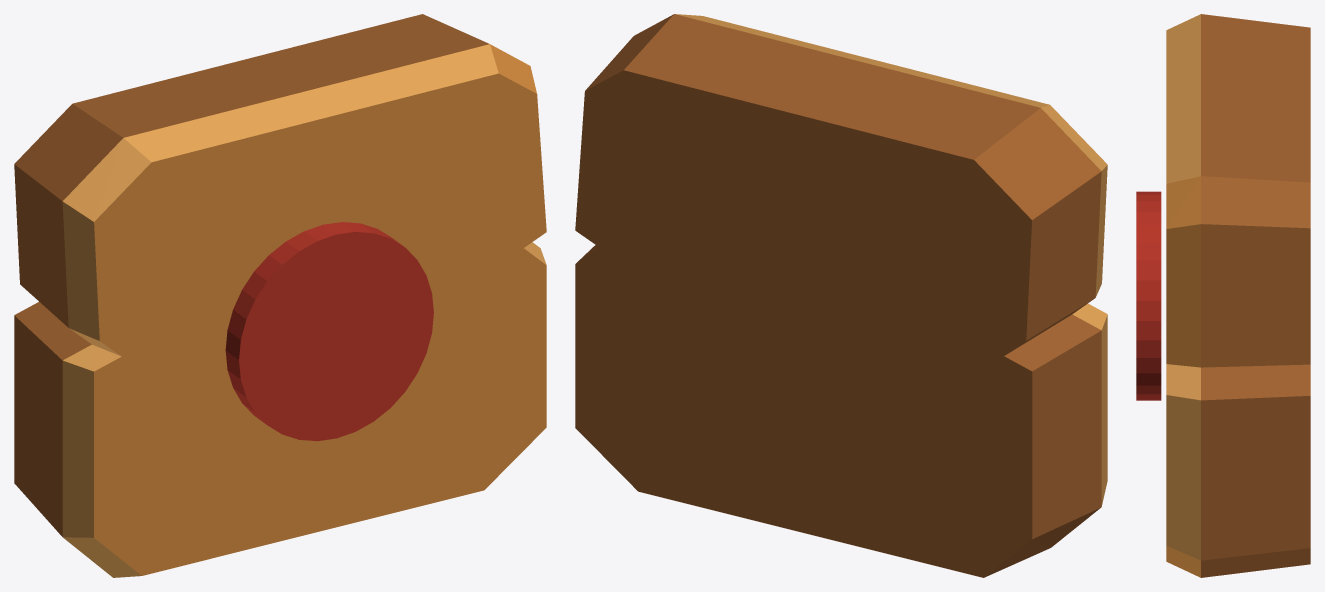
Rendered from Record.fbx.
3 renders of one model, left to right at view 1: azimuth 30°, elevation 25°; view 2: azimuth 150°, elevation 25°; view 3: azimuth 270°, elevation 25°, orthographic. The views are drawn at different scales.
Parts seen in each view (by area): view 1: Stone.002, Icon.003; view 2: Stone.002; view 3: Stone.002, Icon.003.
Boxes of the visible parts, x1,y1,x2,y2 form: Stone.002: (14,14,546,577); Icon.003: (225,222,433,441); Stone.002: (575,14,1107,577); Stone.002: (1166,14,1310,577); Icon.003: (1136,191,1161,400).
Bounding box in the file's own units: 0.103 × 0.091 × 0.035.
